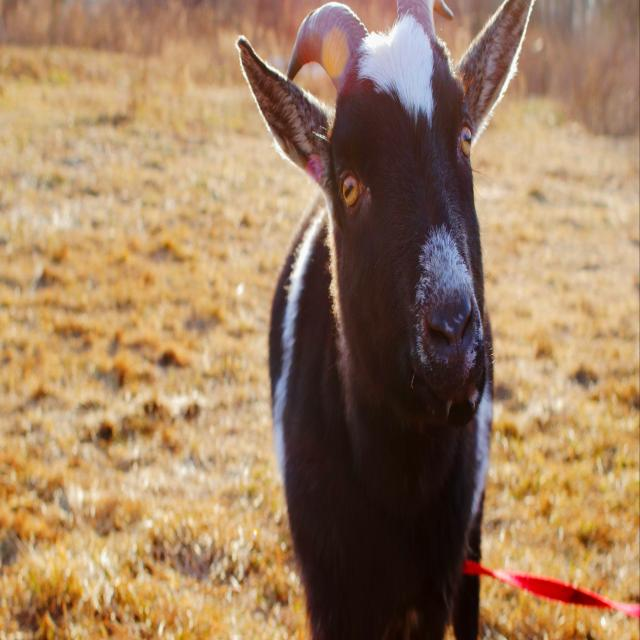goat: (236, 0, 533, 640)
